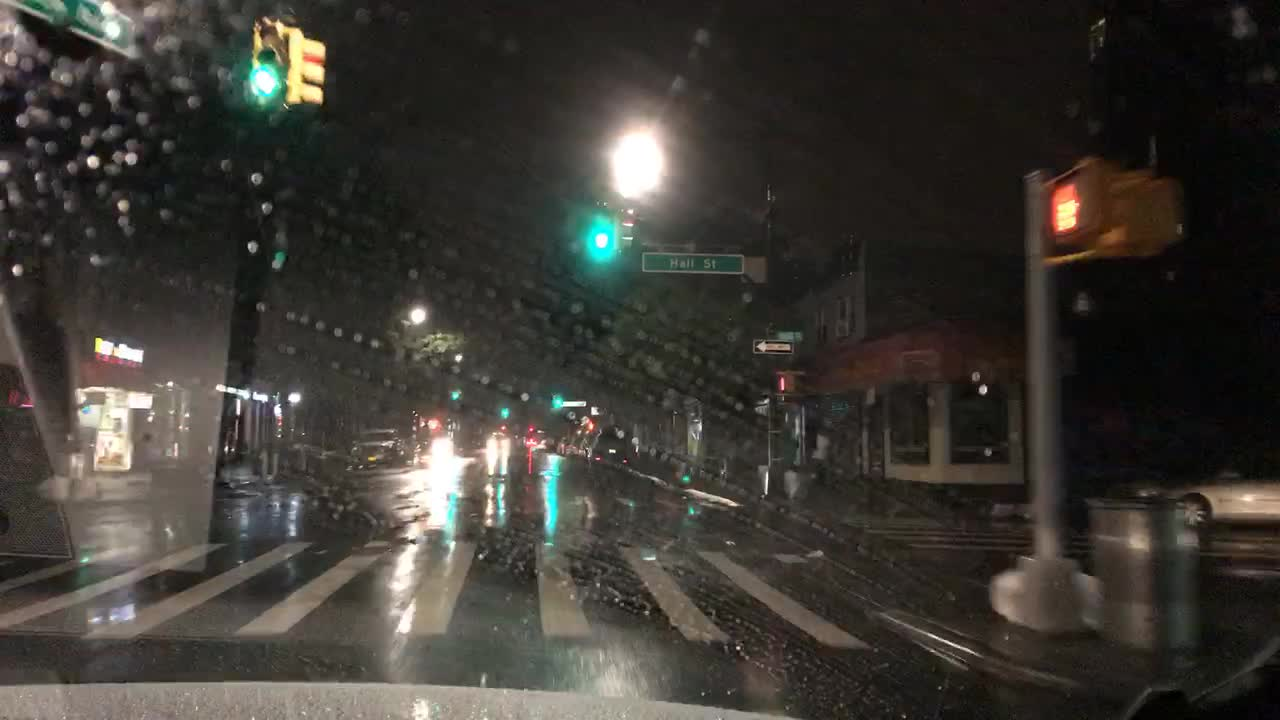car: (1109, 460, 1279, 526), (347, 426, 407, 469), (453, 427, 484, 450), (484, 431, 512, 450), (523, 434, 541, 447)
traffic light: (1045, 156, 1179, 255), (248, 15, 293, 106), (295, 28, 324, 105), (590, 210, 611, 254), (616, 204, 634, 252), (775, 371, 793, 394), (548, 391, 566, 413), (500, 408, 509, 417)
traffic sign: (3, 0, 134, 59), (642, 251, 744, 276), (750, 338, 794, 356), (776, 330, 801, 341), (561, 400, 587, 407)
